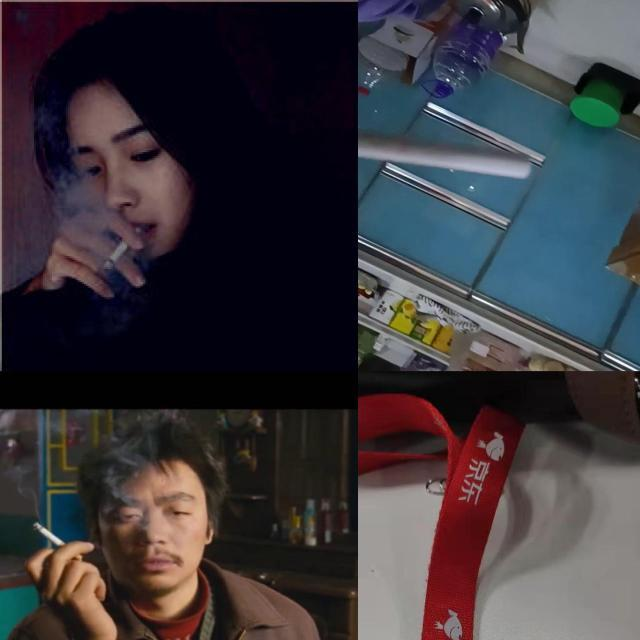smoking: (358, 124, 532, 180), (30, 518, 86, 562), (101, 223, 143, 273)
